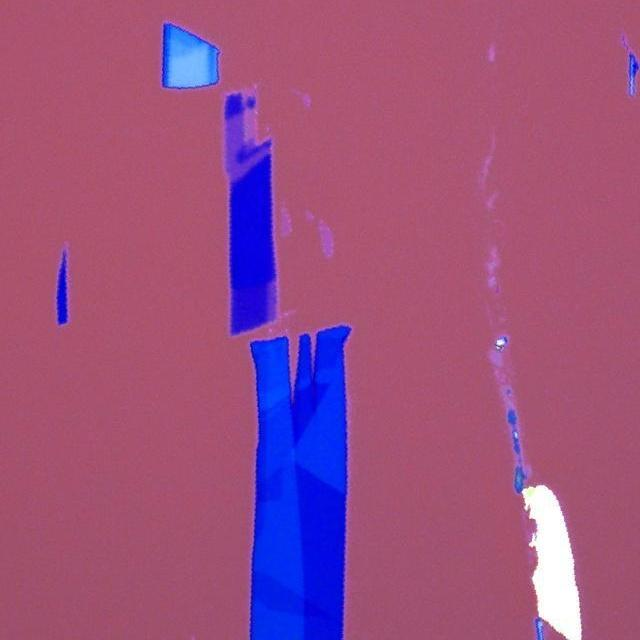monolayer-eWW4: (246, 108, 256, 138)
